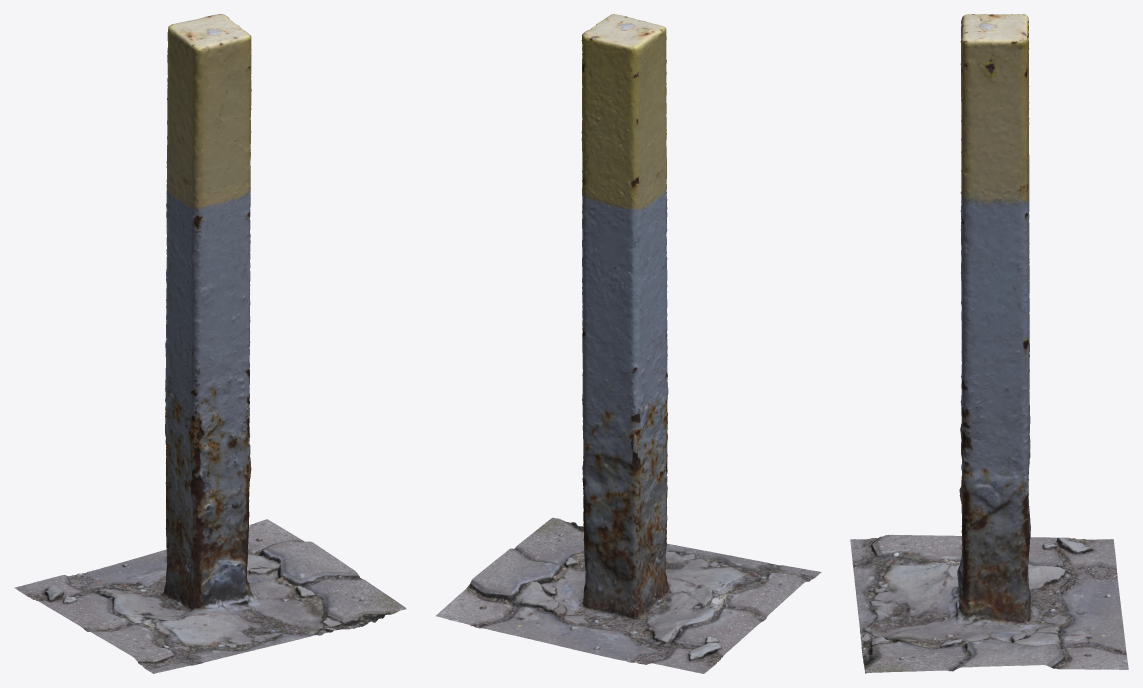
The model's file is borne-2.glb.
3 renders of one model, left to right at view 1: azimuth 30°, elevation 25°; view 2: azimuth 150°, elevation 25°; view 3: azimuth 270°, elevation 25°, orthographic. The views are drawn at different scales.
Visible parts, largest first — view 1: Traffic Bollard_0; view 2: Traffic Bollard_0; view 3: Traffic Bollard_0.
Boxes of the visible parts, left/top/right/bottom form: Traffic Bollard_0: left=14, top=14, right=406, bottom=673; Traffic Bollard_0: left=436, top=14, right=821, bottom=673; Traffic Bollard_0: left=850, top=14, right=1128, bottom=673.
Bounding box in the file's own units: 0.3144 × 0.6349 × 0.2723.
Materials: 1 (1 with a texture image).
